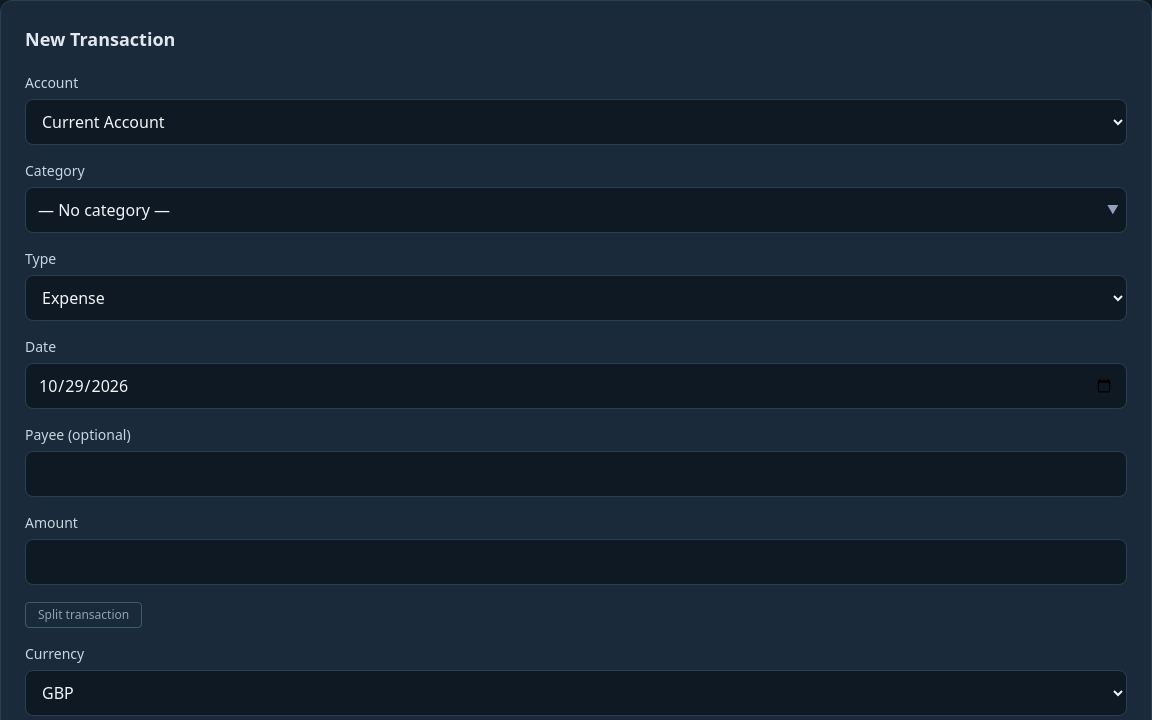
AddTransactionForm › updates currency when the user manually switches accounts
This screenshot has width=1152, height=720.
Expected: the dropdown labelled "Currency" shows "GBP", top-left (25, 670), bottom-right (1127, 716)
Select "Santander" in the dropdown labelled "Account". click: (576, 122)
box: top-left (25, 99), bottom-right (1127, 145)
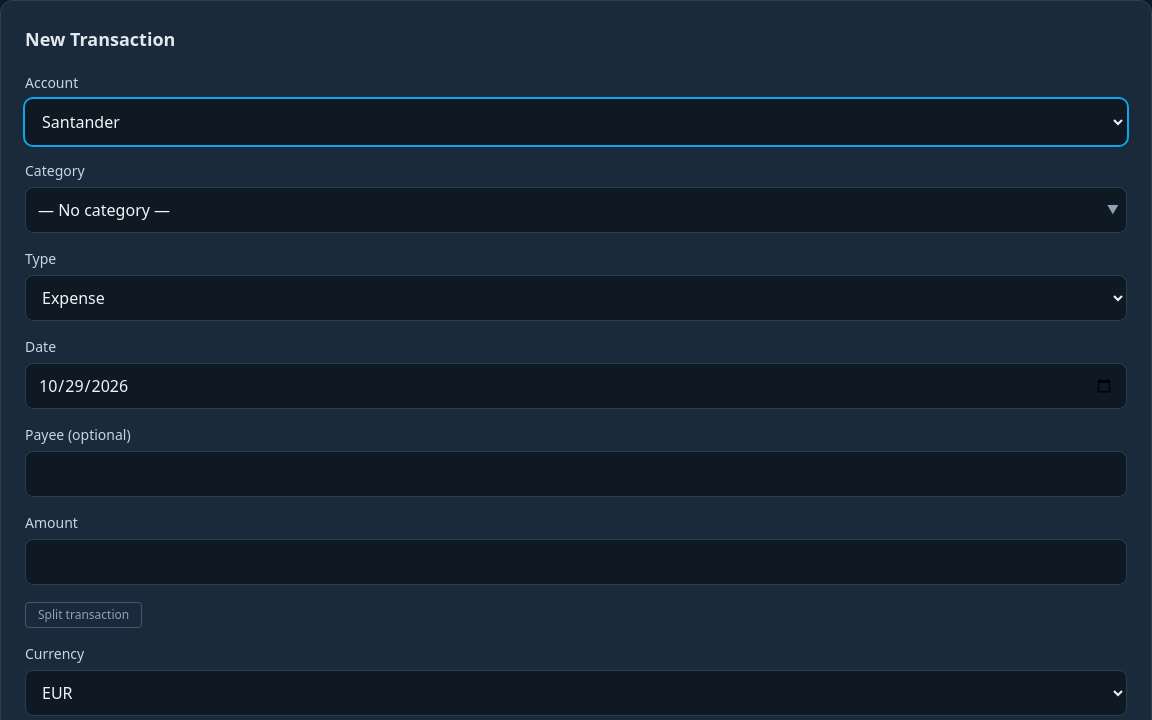
Now the dropdown labelled "Currency" shows "EUR", box top-left (25, 670), bottom-right (1127, 716)
